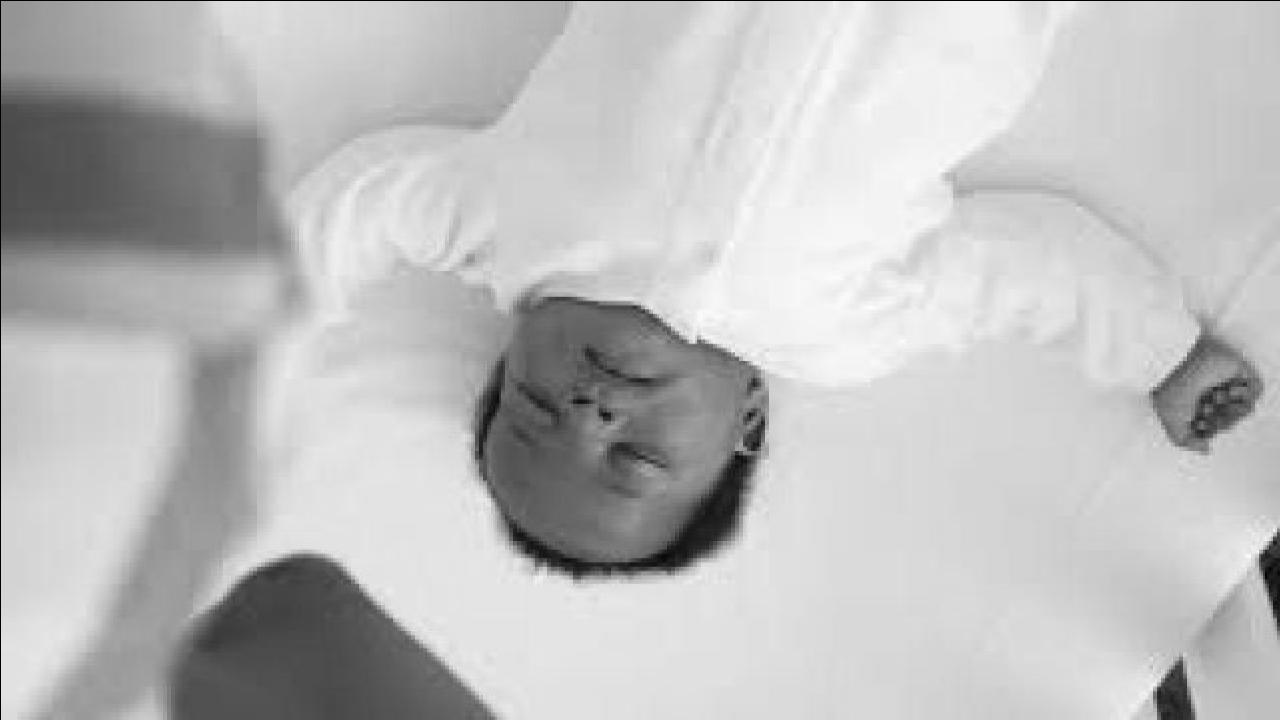hand: (1143, 346, 1266, 452)
